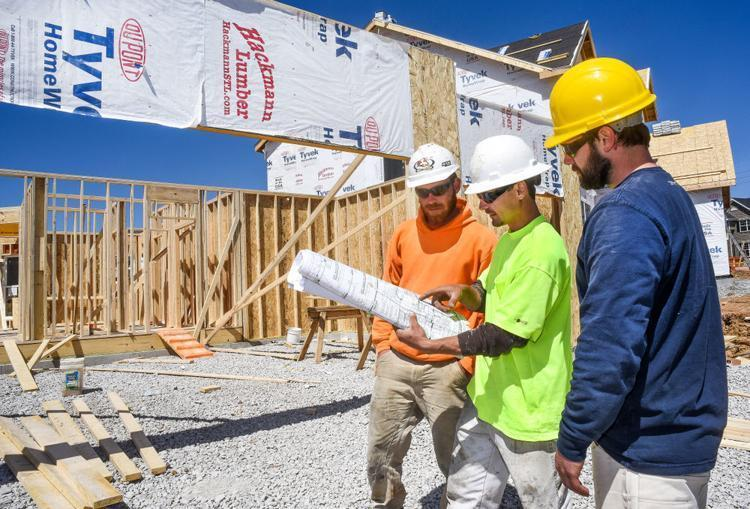helmet: (545, 60, 657, 147), (466, 137, 553, 200), (406, 143, 459, 184)
